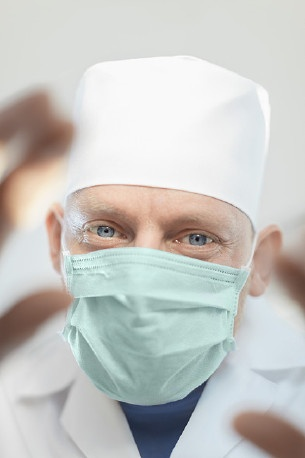Mask: (53, 206, 249, 402)
